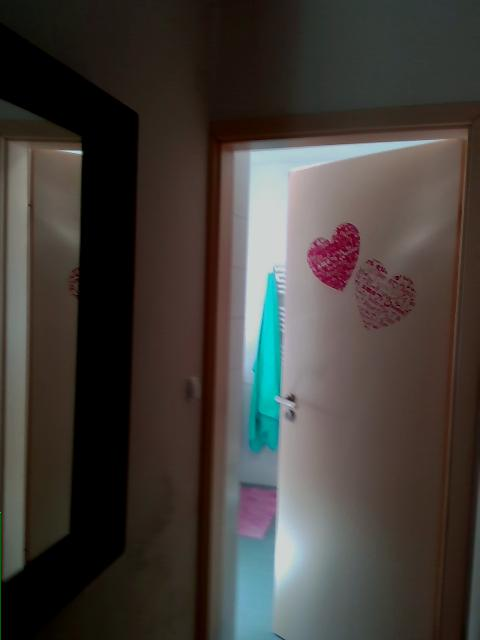semi_door: (197, 99, 479, 637)
